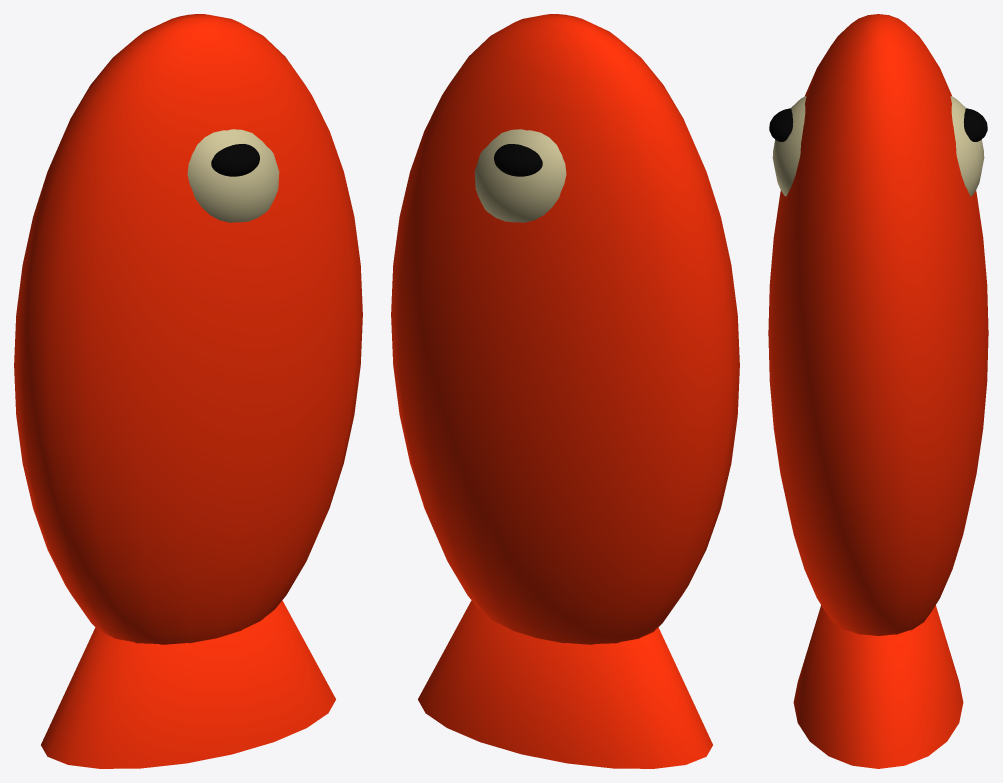
File: Fishie.obj
3 views of the same model, side by side, from view 1: azimuth 30°, elevation 25°; view 2: azimuth 150°, elevation 25°; view 3: azimuth 270°, elevation 25° (orthographic). The views are drawn at different scales.
Visible parts, largest first — view 1: pSphere3; view 2: pSphere3; view 3: pSphere3.
Boxes of the visible parts, x1=… form: pSphere3: x1=14, y1=14, x2=362, y2=768; pSphere3: x1=391, y1=14, x2=739, y2=768; pSphere3: x1=768, y1=14, x2=988, y2=768.
Bounding box in the file's own units: 0.2918 × 0.5945 × 0.1746.
